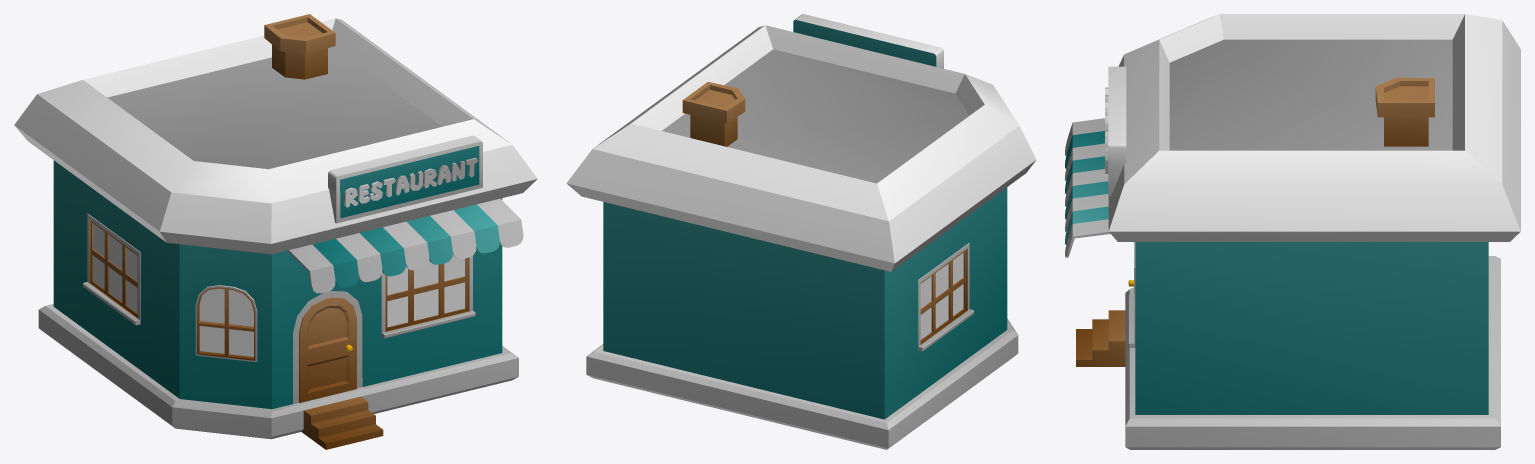
The model's file is Restaurant_3.fbx.
The picture shows the model from 3 angles, left to right: view 1: azimuth 30°, elevation 25°; view 2: azimuth 150°, elevation 25°; view 3: azimuth 270°, elevation 25°; orthographic projection. The views are drawn at different scales.
Parts seen in each view (by area): view 1: Restaurant_3, Restaurant_3 Door; view 2: Restaurant_3; view 3: Restaurant_3.
Part boxes in pixels (x1,y1,x2,y2): Restaurant_3: (14, 14, 537, 449); Restaurant_3 Door: (299, 297, 356, 402); Restaurant_3: (566, 14, 1036, 449); Restaurant_3: (1065, 14, 1520, 449).
Bounding box in the file's own units: 8.35 × 6.66 × 8.82.
